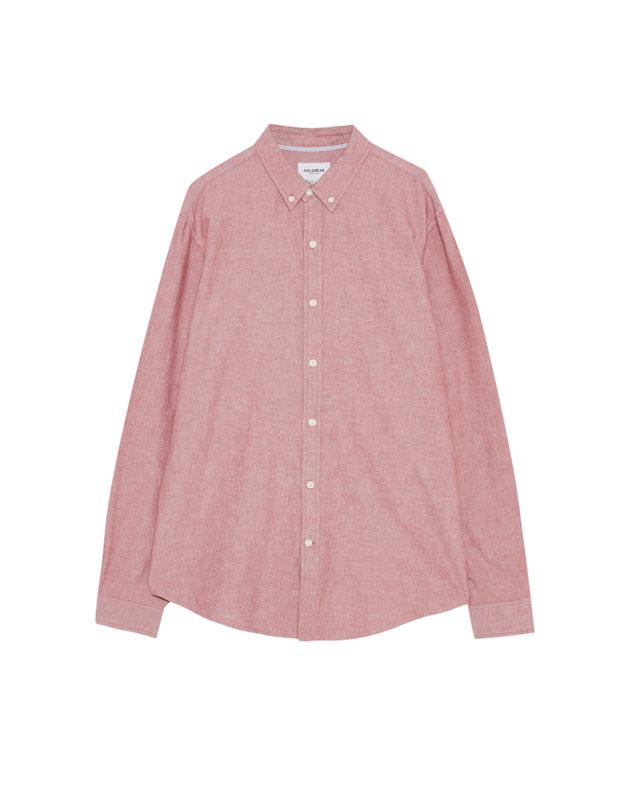teeshirt: (80, 118, 553, 659)
